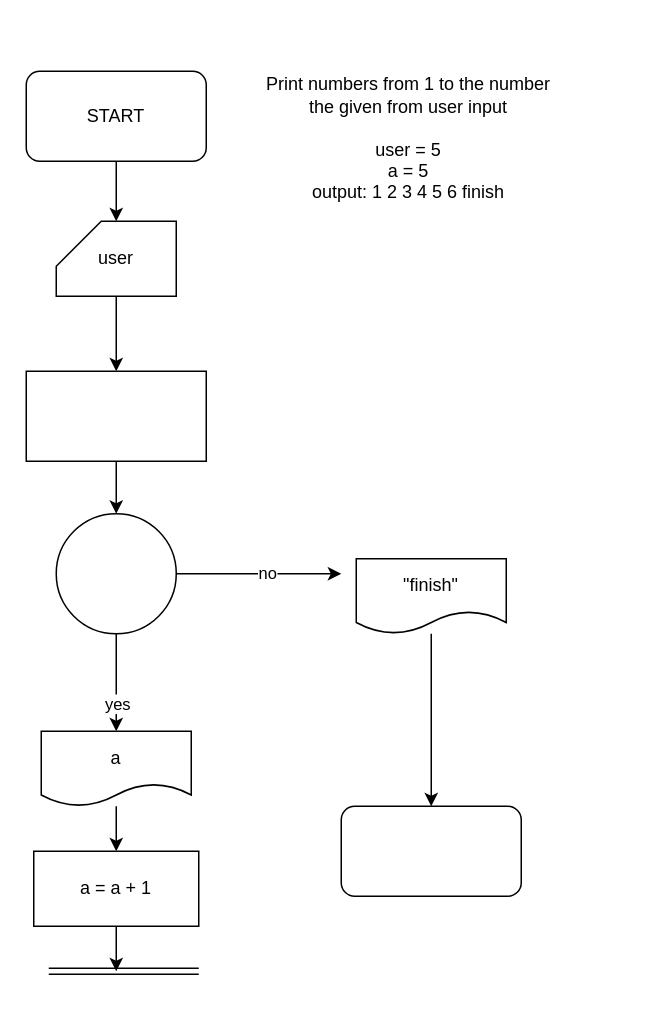
Some shapes in this 668 by 1010 pixel diagram are drawn without their labels. The box of each missing label's shape, as (x1, y1, x2, y2) in pixels:
a <= user ?: (55, 512, 176, 634)
a = 1: (25, 370, 206, 461)
STOP: (340, 805, 521, 896)
